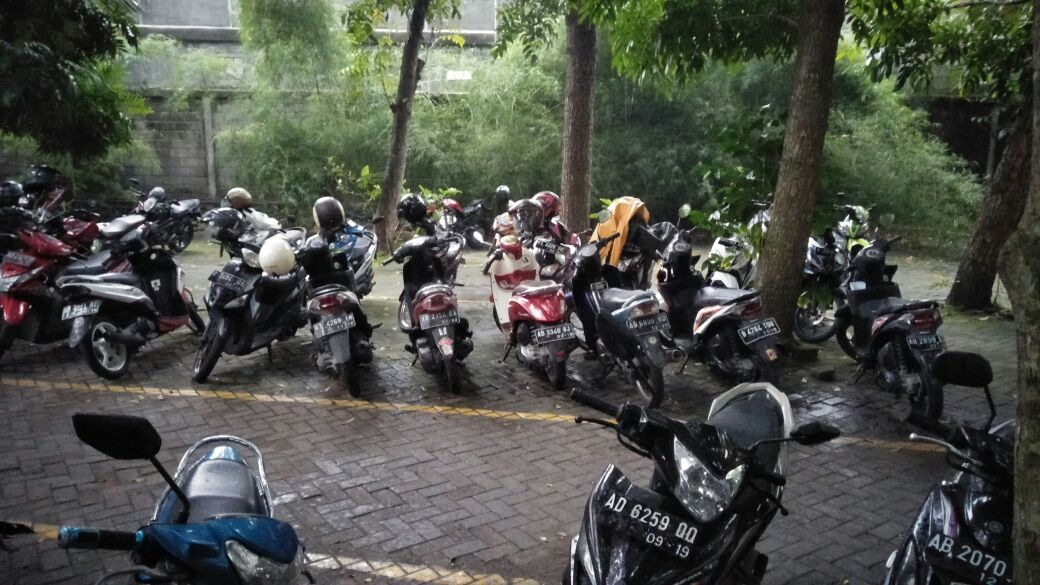plate: (598, 491, 699, 560), (925, 531, 1013, 585), (312, 315, 359, 338), (737, 318, 780, 338), (417, 309, 459, 329), (536, 323, 577, 343), (626, 315, 672, 329)
